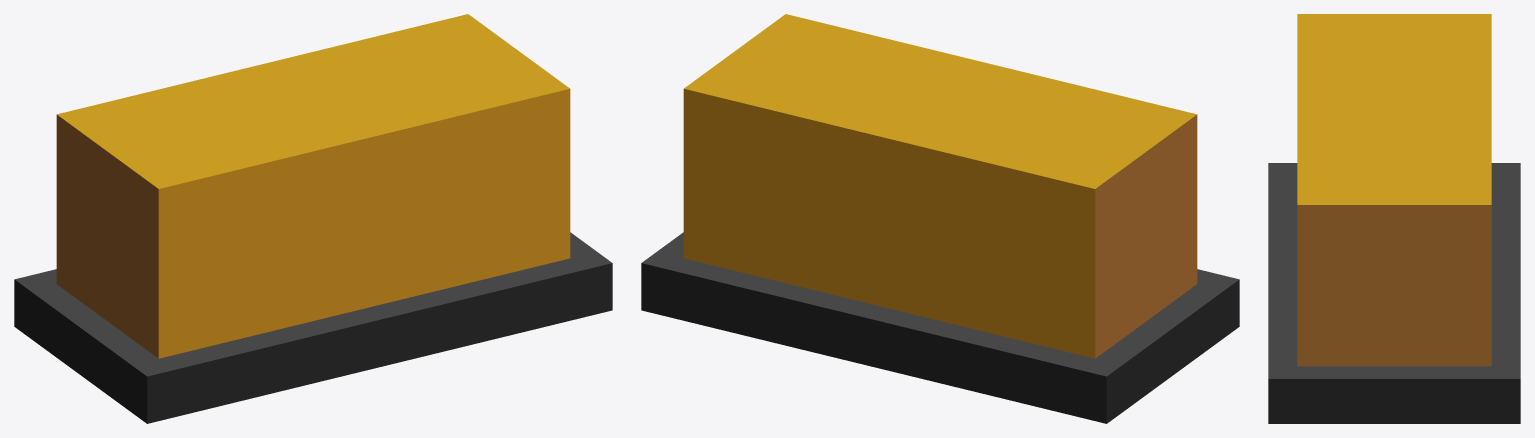
The model's file is TB_CITY_Env_Bush_C.FBX.
3 views of the same model, side by side, from view 1: azimuth 30°, elevation 25°; view 2: azimuth 150°, elevation 25°; view 3: azimuth 270°, elevation 25° (orthographic). The views are drawn at different scales.
Visible parts, largest first — view 1: TB_CITY_Env_Bush_C; view 2: TB_CITY_Env_Bush_C; view 3: TB_CITY_Env_Bush_C.
Part boxes in pixels (bbox=[...]): TB_CITY_Env_Bush_C: bbox=[14, 14, 612, 423]; TB_CITY_Env_Bush_C: bbox=[641, 14, 1239, 423]; TB_CITY_Env_Bush_C: bbox=[1268, 14, 1520, 423].
Size of the model in its own units: 3.1 by 1.38 by 1.53.
